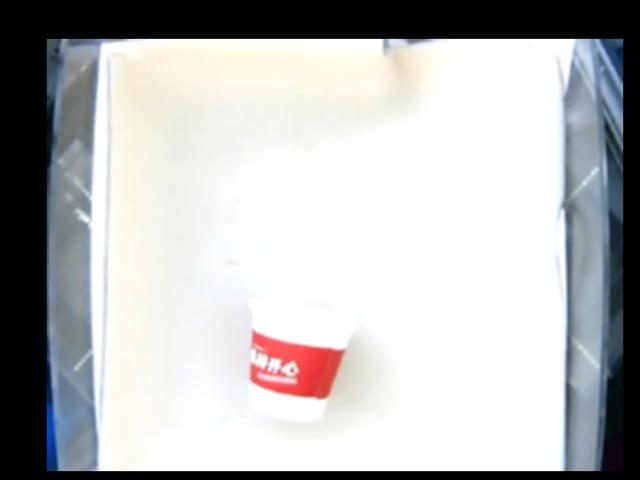Cup: (242, 295, 358, 420)
